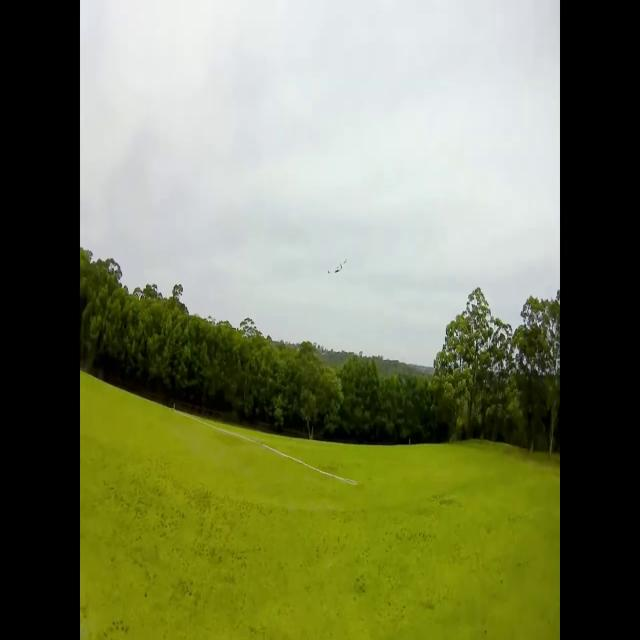iha: (327, 252, 347, 269)
